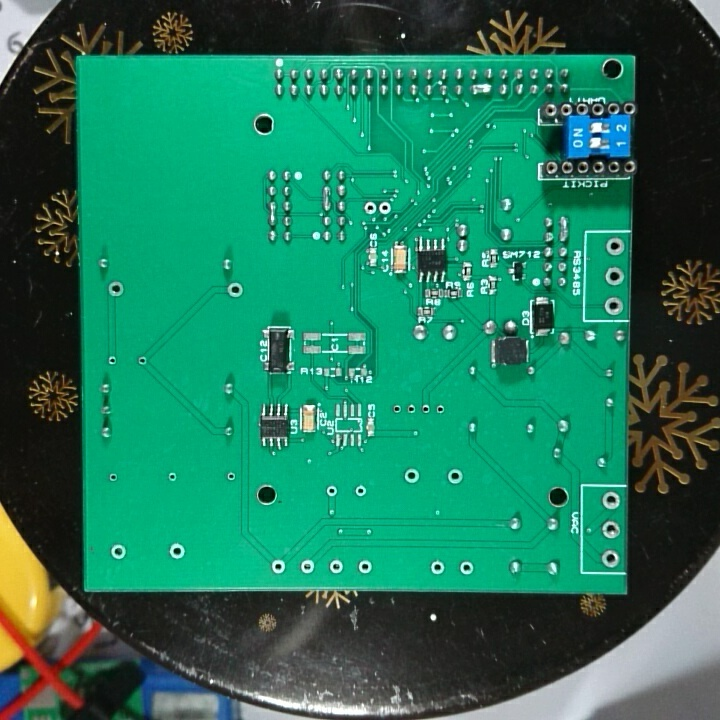F: (604, 263, 625, 290), (599, 490, 622, 514), (604, 235, 626, 260), (165, 541, 189, 563), (600, 518, 621, 543), (602, 295, 625, 317), (599, 547, 620, 570), (108, 541, 128, 564), (402, 466, 422, 489), (428, 558, 448, 579), (445, 467, 465, 487), (106, 280, 126, 300), (350, 482, 369, 503), (225, 281, 246, 300), (298, 557, 317, 575), (376, 198, 394, 217), (269, 559, 287, 577), (457, 559, 474, 578), (355, 558, 374, 575), (326, 558, 345, 575), (165, 469, 179, 488), (224, 467, 238, 486), (324, 482, 340, 498), (432, 401, 448, 417), (363, 200, 377, 217), (419, 401, 432, 418), (403, 403, 417, 418), (135, 354, 148, 370), (105, 354, 120, 367), (391, 401, 402, 418), (107, 471, 119, 485)
P: (265, 199, 280, 229), (557, 212, 571, 242), (470, 81, 493, 96), (321, 183, 332, 212)
